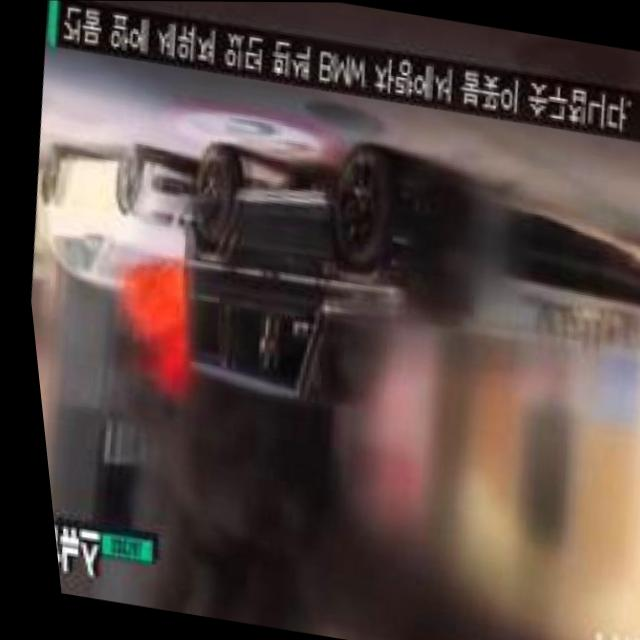Fire: (117, 257, 186, 333)
